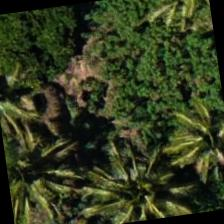Kelapa_Sawit: (2, 124, 78, 222), (97, 153, 196, 223), (166, 93, 223, 192)
